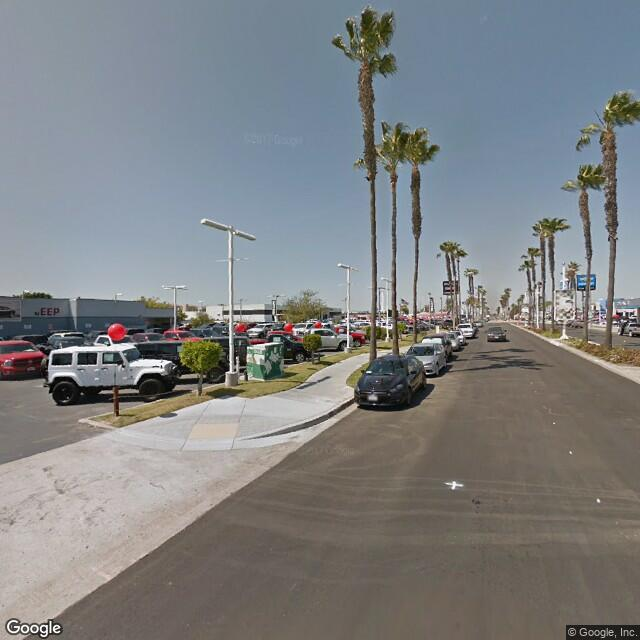litter: (166, 581, 176, 590)
